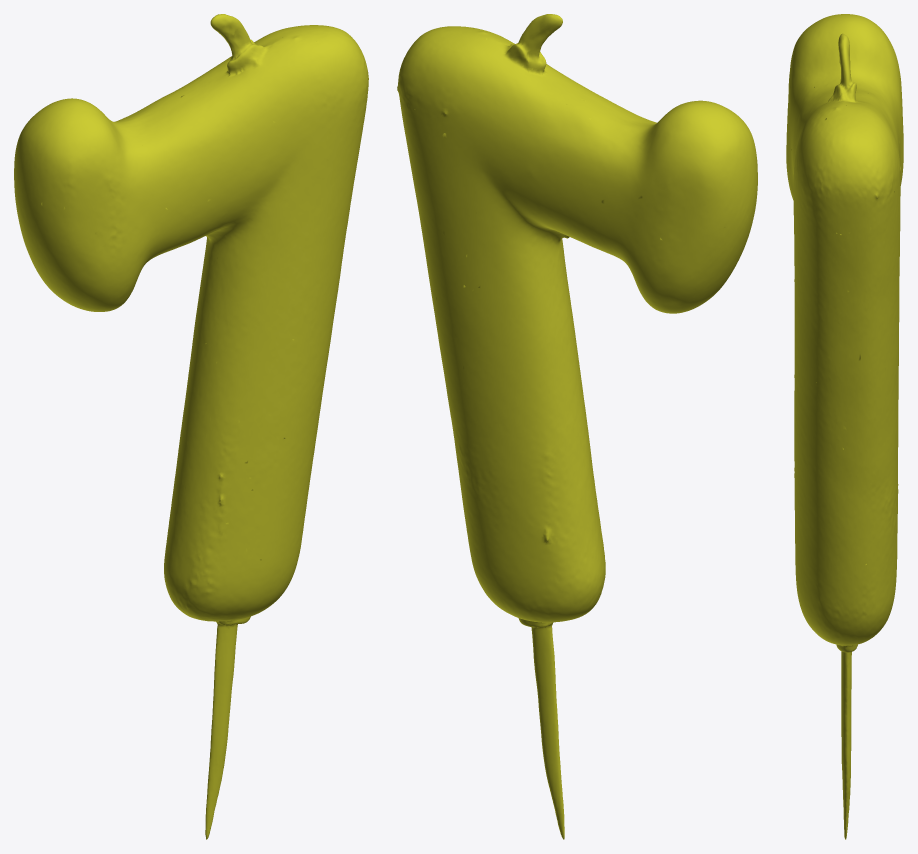
File: number7.glb
3 views of the same model, side by side, from view 1: azimuth 30°, elevation 25°; view 2: azimuth 150°, elevation 25°; view 3: azimuth 270°, elevation 25° (orthographic).
Parts seen in each view (by area): view 1: Mesh1.001; view 2: Mesh1.001; view 3: Mesh1.001.
Part boxes in pixels (box(x1,y1,x2,y2)): Mesh1.001: box(14, 14, 368, 839); Mesh1.001: box(397, 14, 757, 839); Mesh1.001: box(786, 14, 903, 839).
Size of the model in its own units: 0.366 by 0.8447 by 0.111.
